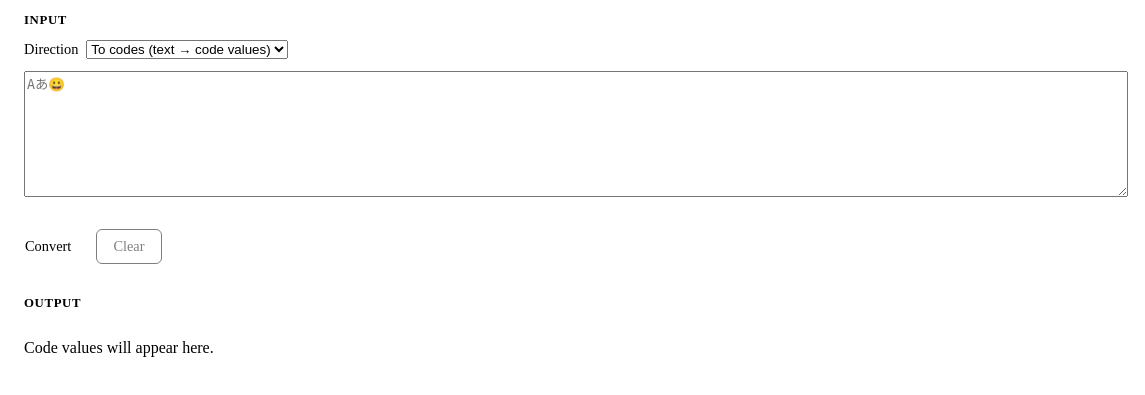
Scenario: CharacterCodeConverterTool › shows code values for entered characters
Type "A" into the text box named "Code converter input" at (576, 134), box [24, 71, 1128, 197]
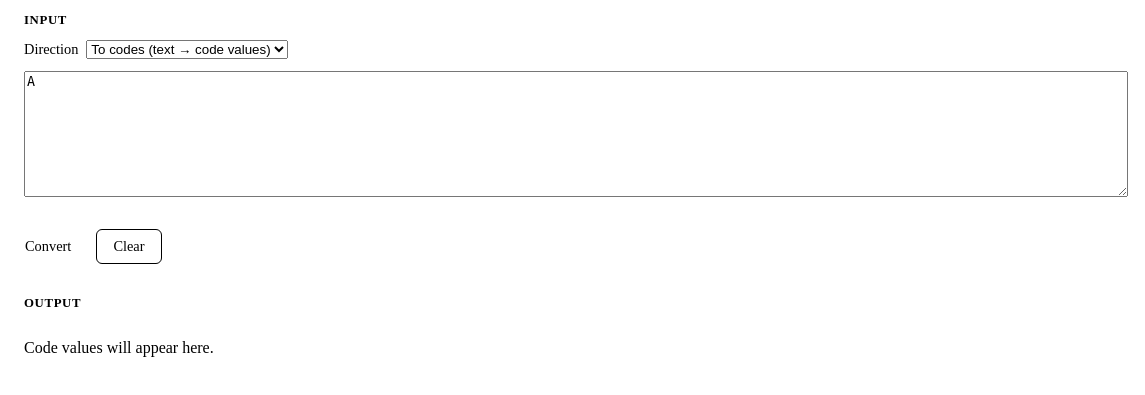
Click the button "Convert" at (48, 246), box [8, 229, 88, 264]
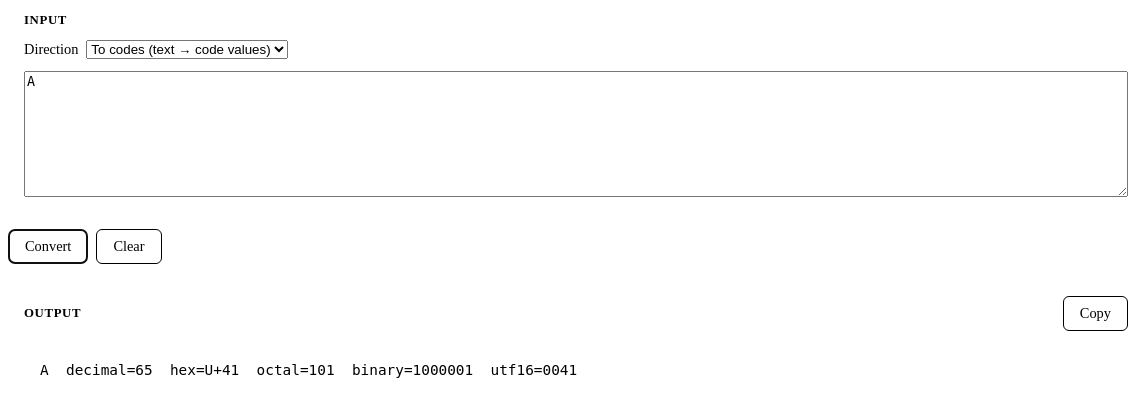
Expected: the text with test id "character-code-output" shows "decimal=65", [40, 362, 577, 378]
Expected: the text with test id "character-code-output" shows "U+41", [40, 362, 577, 378]
Expected: the text with test id "character-code-output" shows "binary=1000001", [40, 362, 577, 378]
